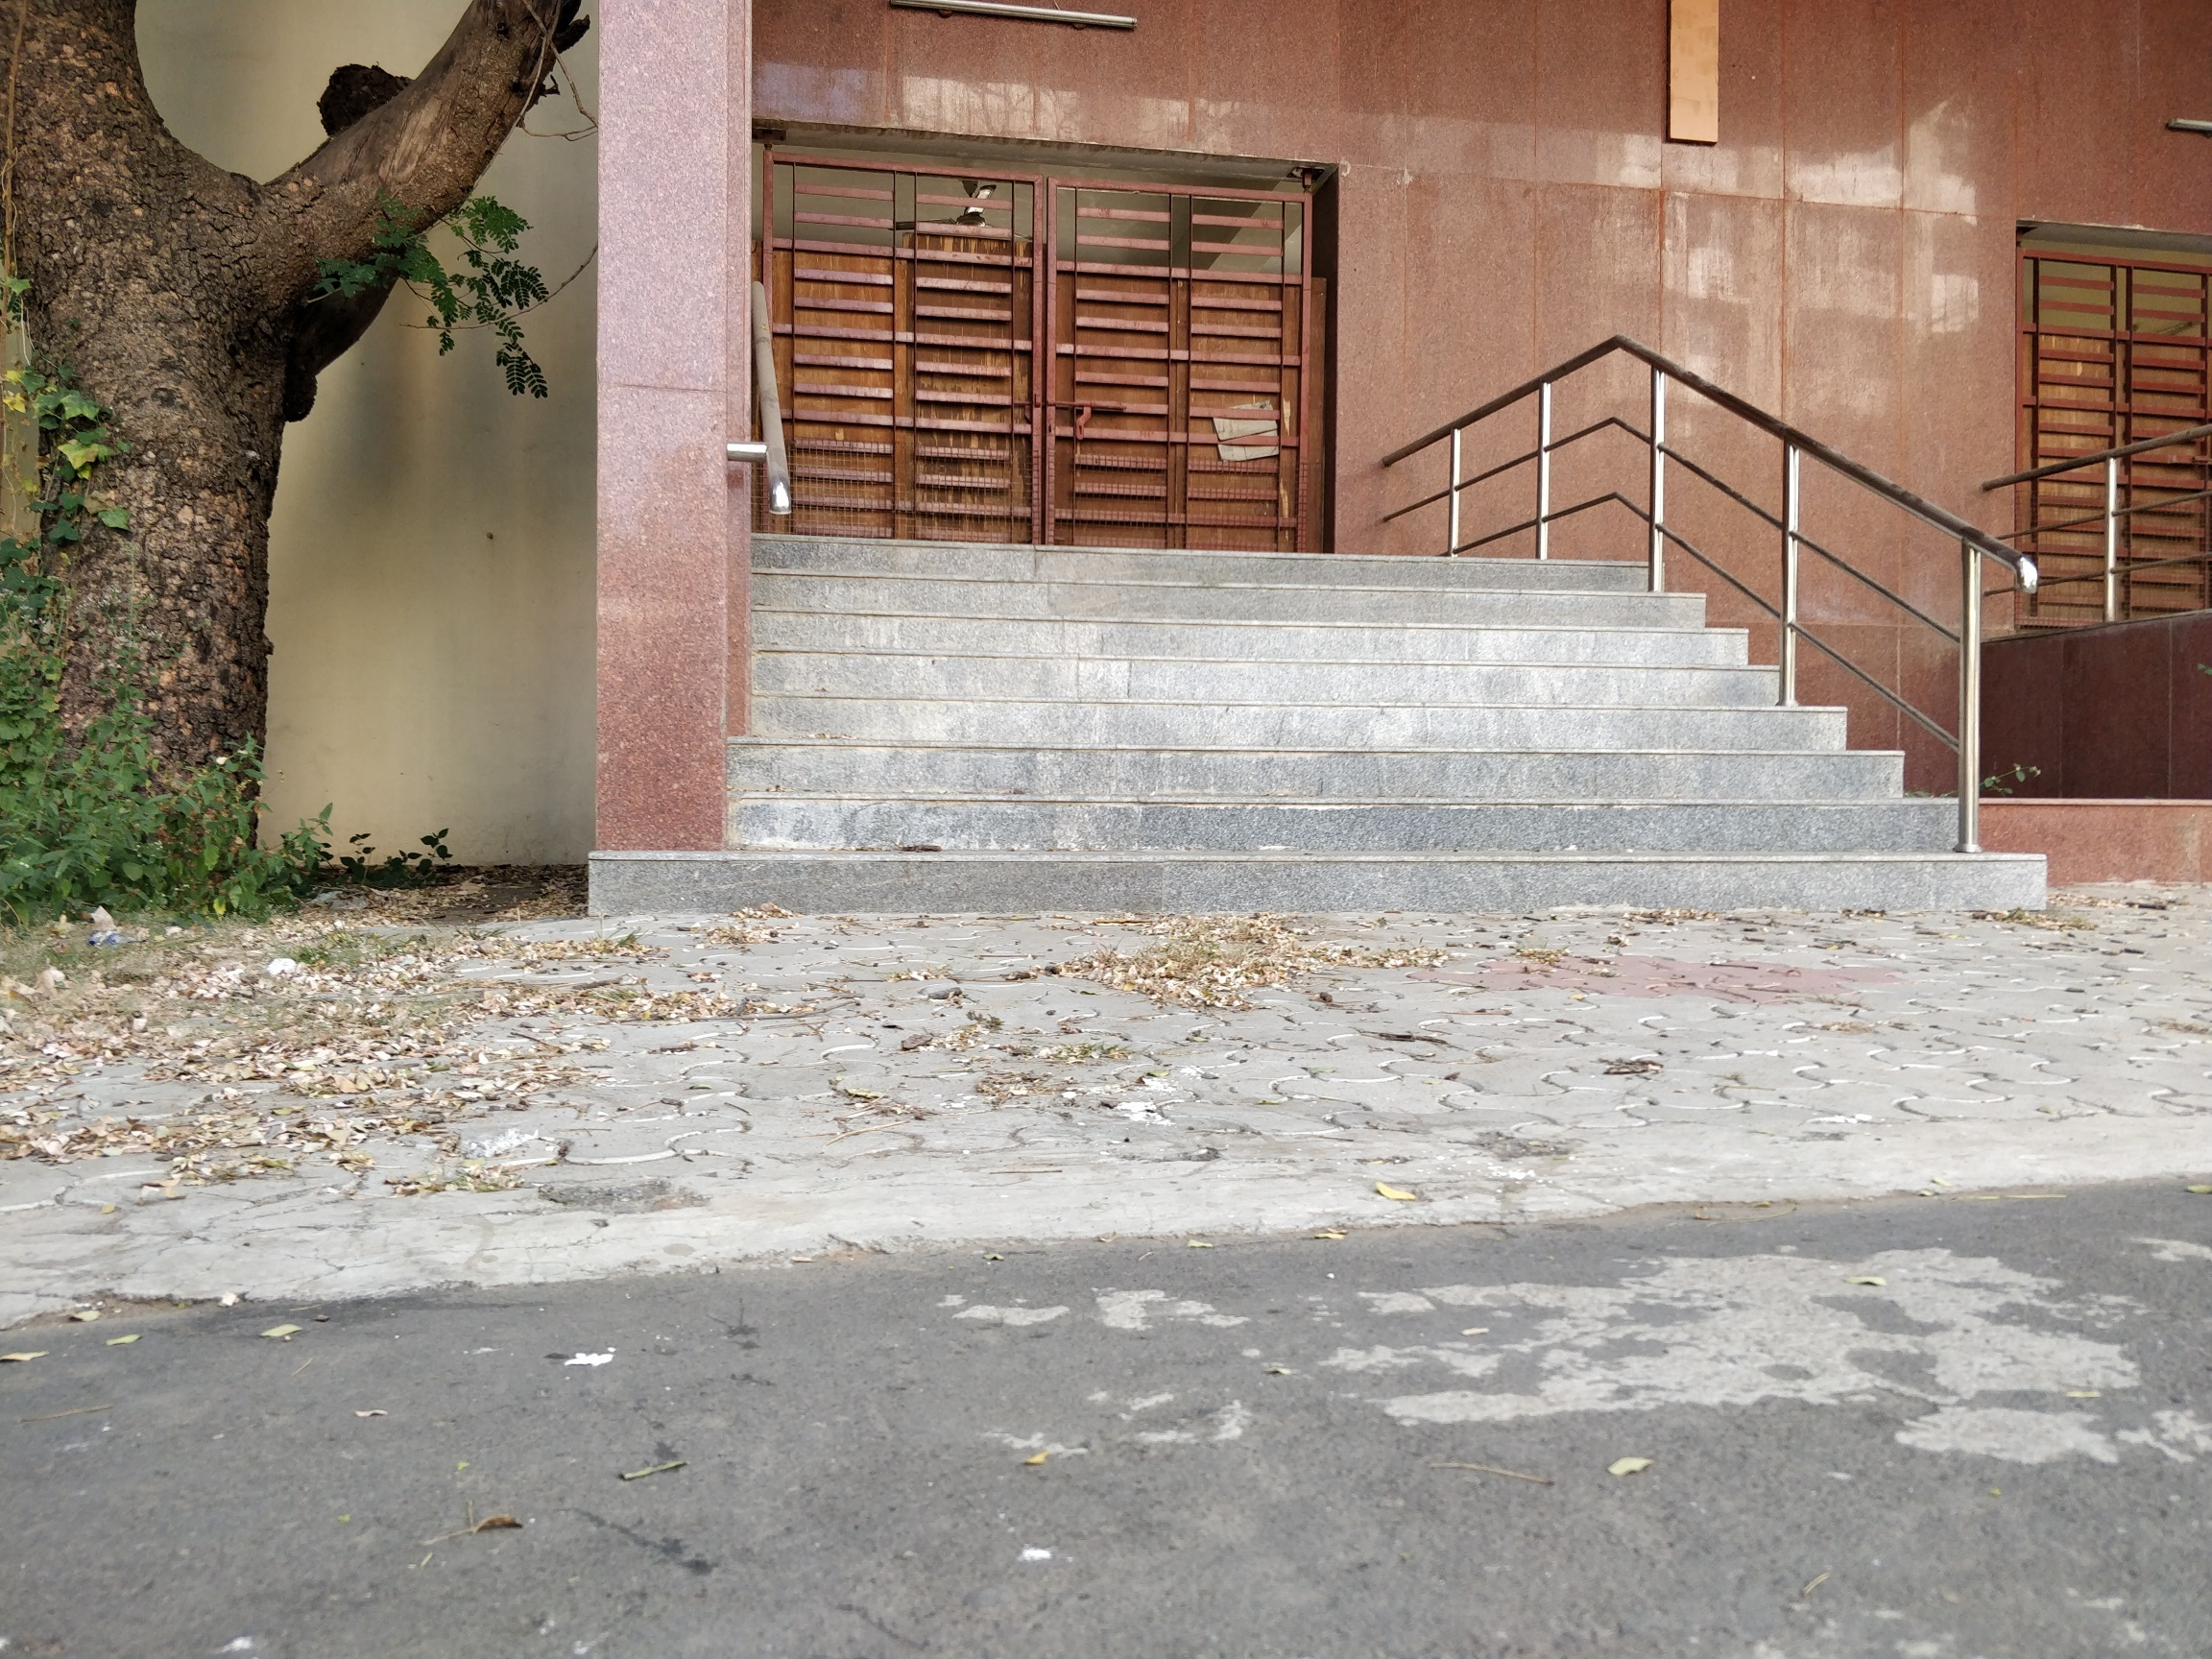stairs_up: (759, 535, 1872, 889)
